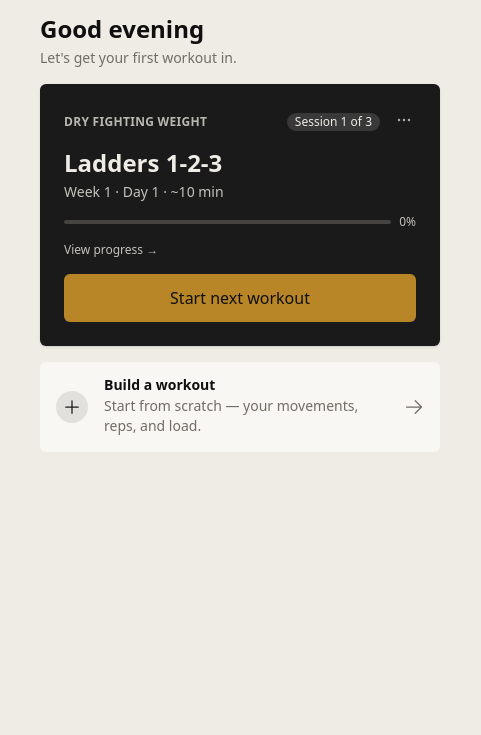
Scenario: StartWorkoutPage — collapsible builder sections › starting the next program session opens everything collapsed
Click the button "Start next workout": (240, 298) x1=64 y1=274 x2=416 y2=322
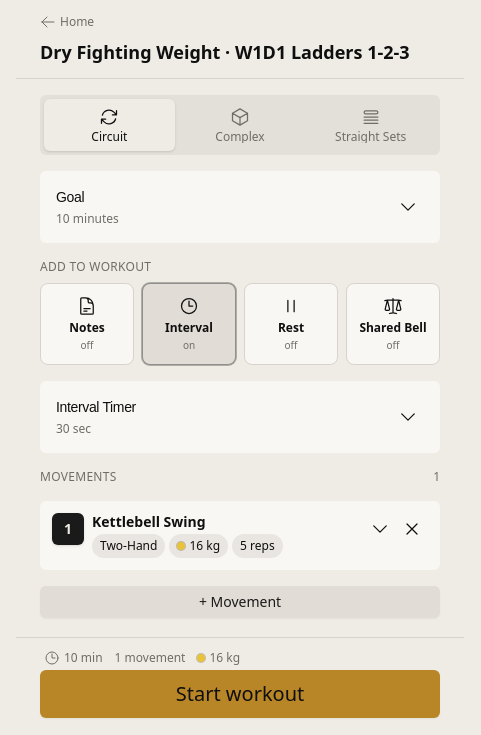
Check: the text "10 minutes" is shown, box x1=56 y1=210 x2=119 y2=227
Check: the text "30 sec" is shown, box x1=56 y1=420 x2=91 y2=436
Check: the button with aria-label "Expand Kettlebell Swing" is shown, box x1=92 y1=512 x2=356 y2=558
